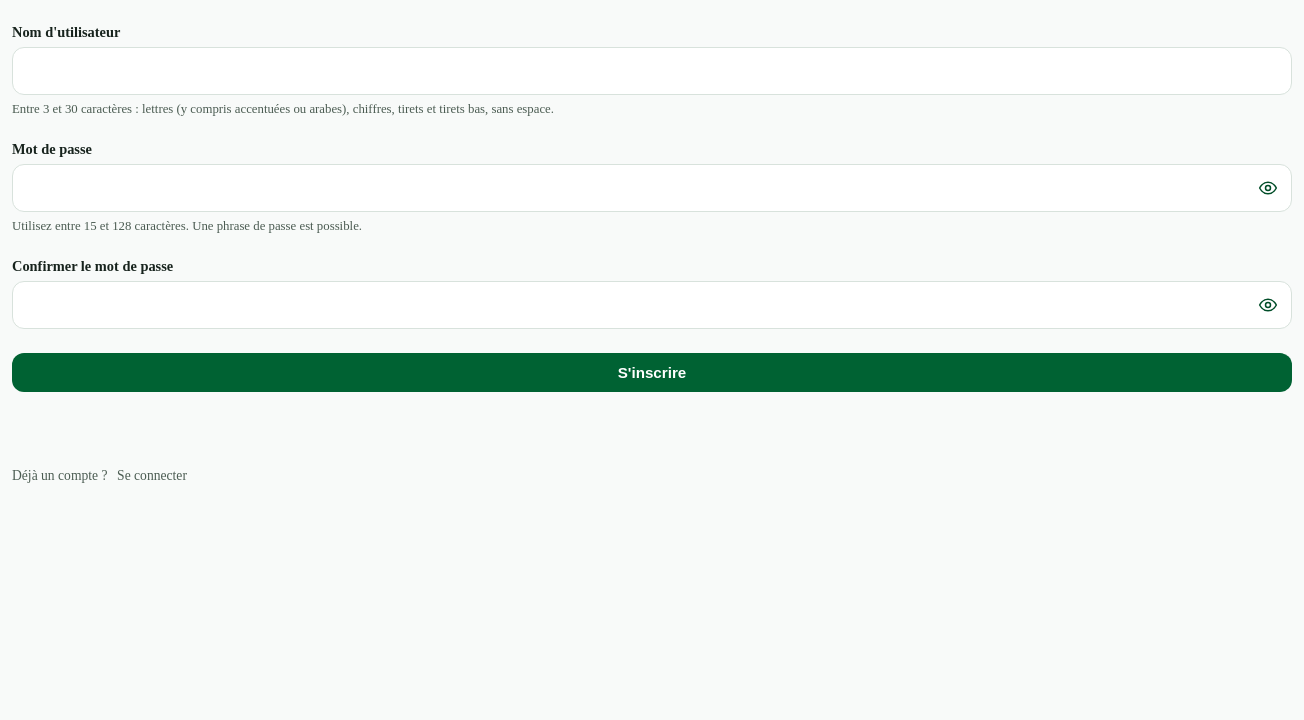
Test: RegistrationForm › shows a field error after that field is blurred empty
Click the field labelled "Nom d'utilisateur" at (652, 71), box [12,47,1292,95]
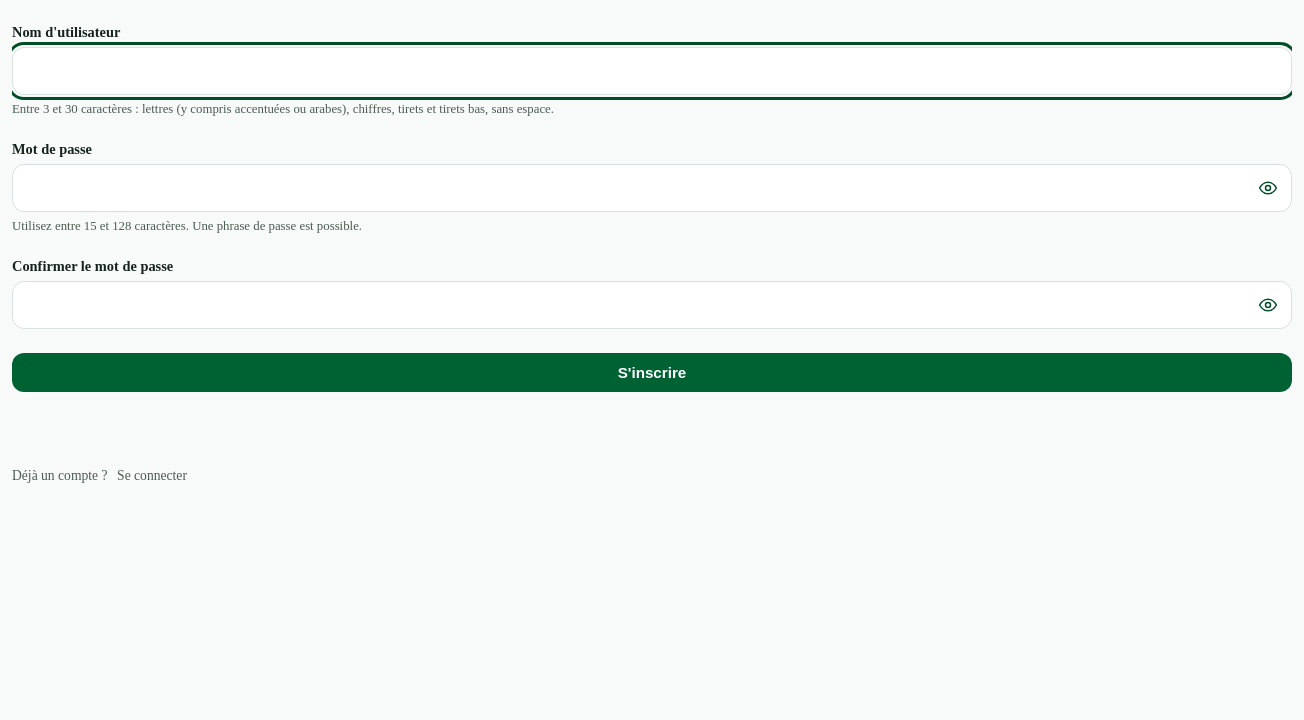
Press Tab
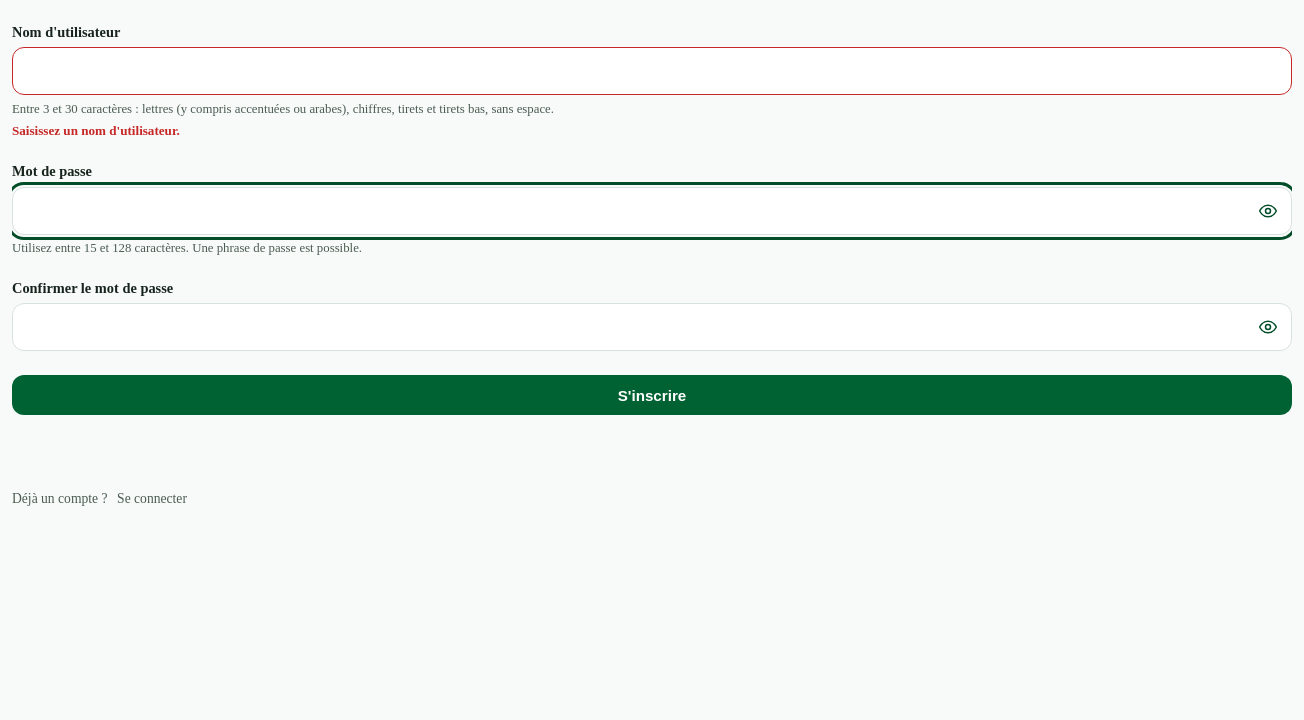
Now the text "Saisissez un nom d'utilisateur." is shown, box [12,123,180,138]
